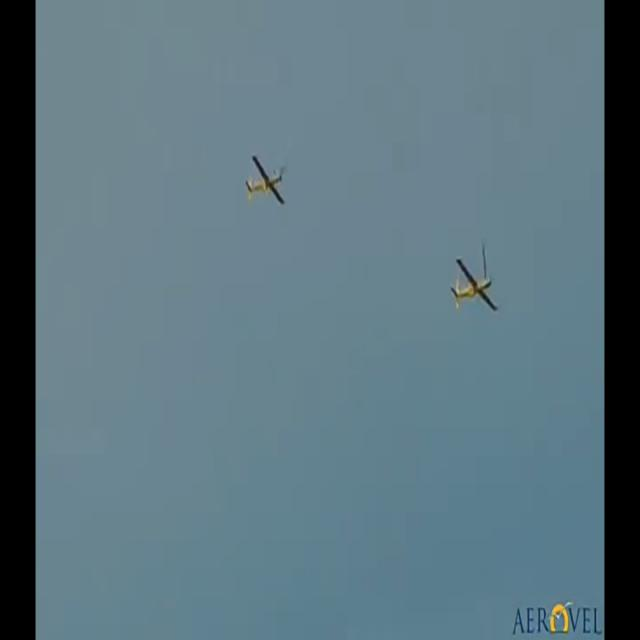iha: (238, 155, 279, 206), (450, 278, 500, 280)
